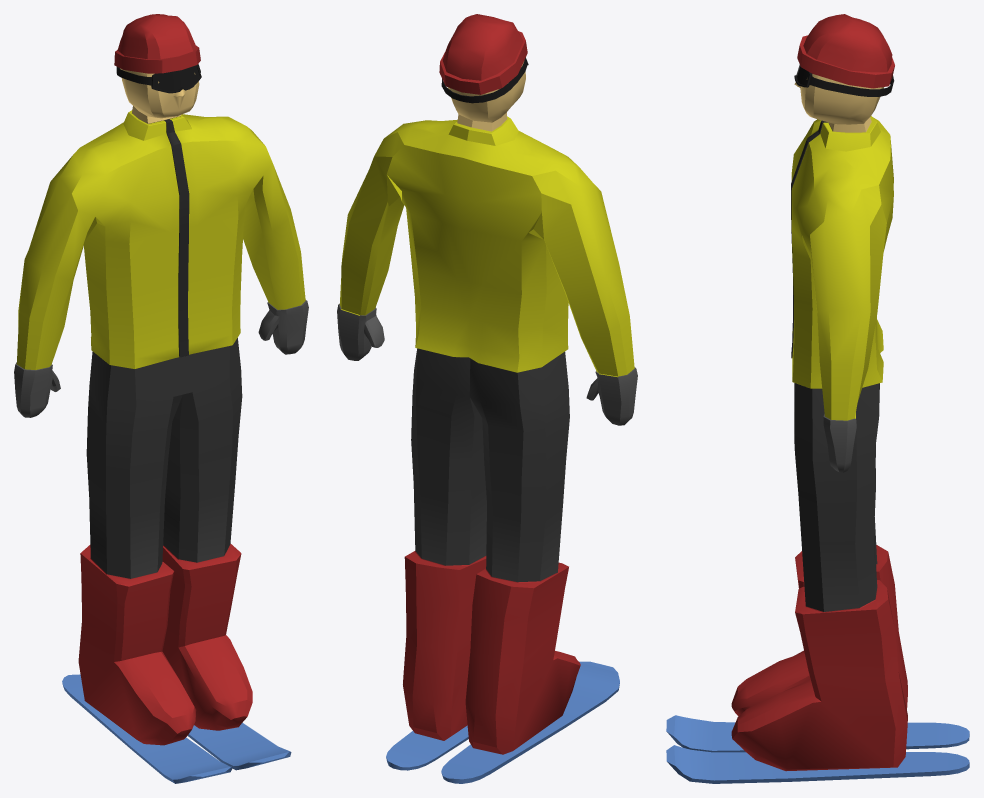
The model's file is dude.glb.
The picture shows the model from 3 angles, left to right: view 1: azimuth 30°, elevation 25°; view 2: azimuth 150°, elevation 25°; view 3: azimuth 270°, elevation 25°; orthographic projection. The views are drawn at different scales.
Parts seen in each view (by area): view 1: skier, snowshoes, cap, goggles; view 2: skier, snowshoes, cap, goggles; view 3: skier, snowshoes, cap, goggles.
Boxes of the visible parts, bbox=[...] form: skier: bbox=[14, 68, 308, 745]; snowshoes: bbox=[62, 674, 291, 783]; cap: bbox=[114, 14, 200, 73]; goggles: bbox=[116, 64, 201, 93]; skier: bbox=[337, 62, 637, 754]; snowshoes: bbox=[386, 661, 619, 783]; cap: bbox=[439, 14, 527, 94]; goggles: bbox=[441, 57, 528, 103]; skier: bbox=[731, 74, 907, 771]; snowshoes: bbox=[666, 715, 969, 783]; cap: bbox=[797, 14, 894, 88]; goggles: bbox=[794, 64, 894, 96].
Bounding box in the file's own units: 1.13 × 2.64 × 0.9886.
2 materials, 2 textured.
